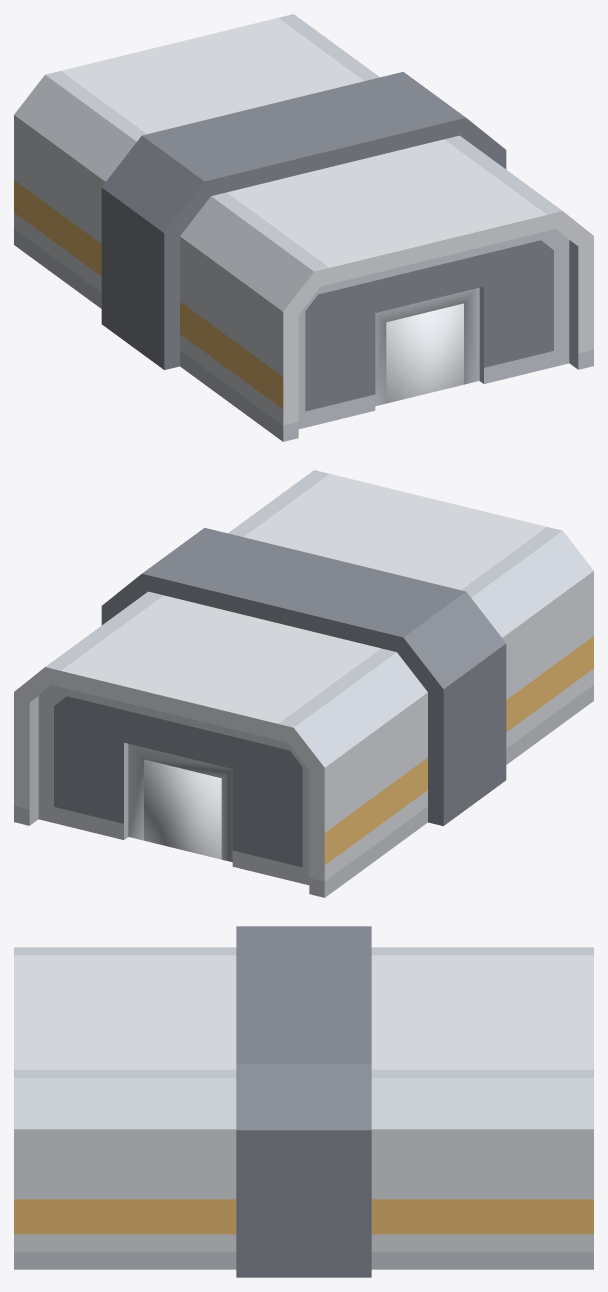
The model's file is Hangar.fbx.
3 renders of one model, top to bottom at view 1: azimuth 30°, elevation 25°; view 2: azimuth 150°, elevation 25°; view 3: azimuth 270°, elevation 25°, orthographic. The views are drawn at different scales.
Parts seen in each view (by area): view 1: hangar_largeB, gate.002, gate.2.door; view 2: hangar_largeB, gate.001, gate.1.door; view 3: hangar_largeB.
Part boxes in pixels (<box>): hangar_largeB: <box>14,14,593,441</box>; gate.002: <box>298,229,569,429</box>; gate.2.door: <box>386,303,463,403</box>; hangar_largeB: <box>14,470,593,897</box>; gate.001: <box>38,685,309,885</box>; gate.1.door: <box>144,759,221,859</box>; hangar_largeB: <box>14,926,593,1277</box>.
Bounding box in the file's own units: 220 × 110 × 300.
